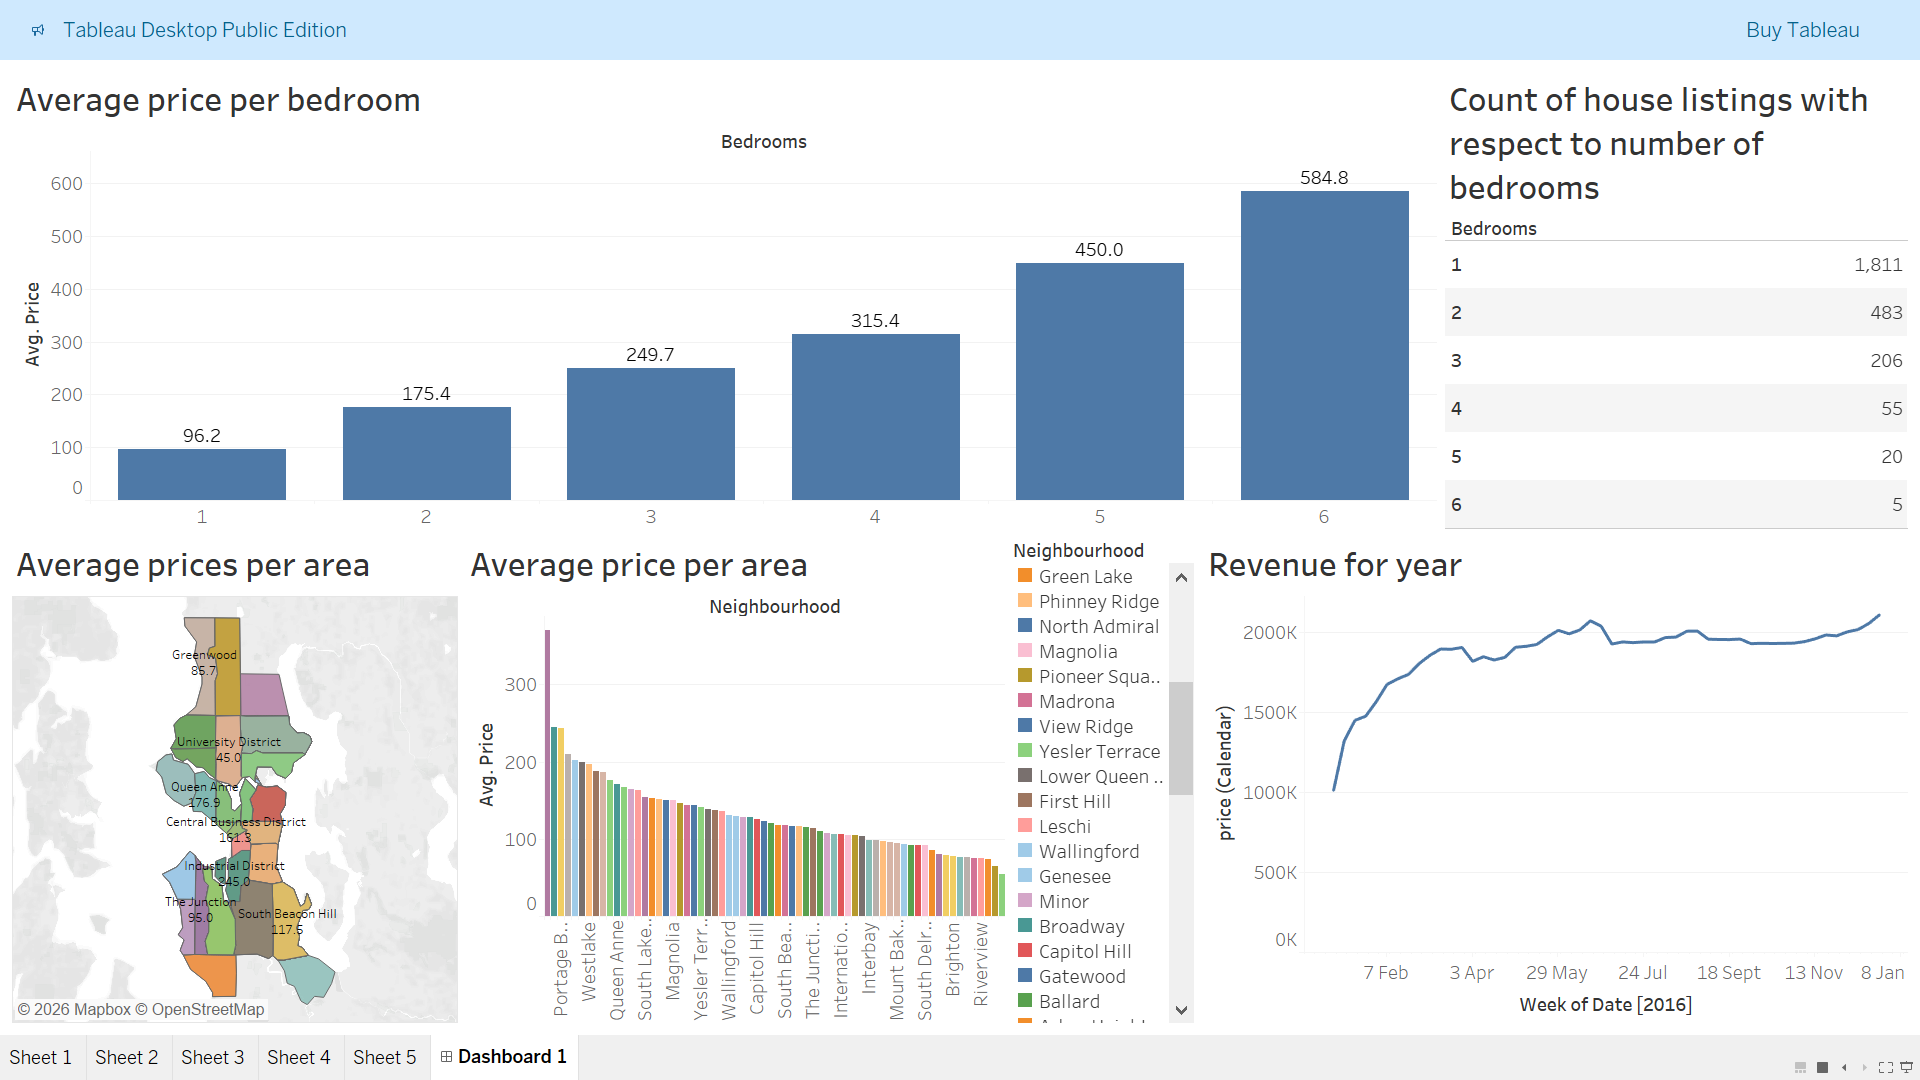

This screenshot's page, from the dashboard's own definition file:
{"tool":"tableau","page":{"name":"Dashboard 1","canvas":[1000,1000],"units":"permille","ordinal":0},"visuals":[{"type":"worksheet","title":"Sheet 4","mark":"Automatic","rows":["price"],"cols":["bedrooms"],"box":[4.2,10.6,746.1,474.9]},{"type":"worksheet","title":"Sheet 5","mark":"Automatic","rows":["bedrooms"],"box":[750.3,10.6,245.4,474.9]},{"type":"worksheet","title":"Sheet 2","mark":"Multipolygon","box":[4.2,485.5,236.6,504]},{"type":"worksheet","title":"Sheet 1","mark":"Automatic","rows":["price"],"cols":["neighbourhood"],"box":[240.8,485.5,284.7,504]},{"type":"legend","title":"Sheet 1","param":"[federated.1iimjr1109namn15etvd1126e6qy].[none:neighbourhood:nk]","box":[525.6,485.5,99.3,504]},{"type":"worksheet","title":"Sheet 3","mark":"Automatic","rows":["price (Calendar)"],"cols":["date"],"box":[624.8,485.5,370.9,504]}]}

Visuals, with their boxes on the dashboard's canvas, which has no fixed pixel size, in thousandths of its width and height (x1, y1, x2, y2). These are canvas units, not pixel positions in the 1920x1080 screenshot, which may show the page scaled, cropped or inside an application window:
"Sheet 4" worksheet: Rect(4, 11, 750, 486)
"Sheet 5" worksheet: Rect(750, 11, 996, 486)
"Sheet 2" worksheet (Multipolygon marks): Rect(4, 486, 241, 990)
"Sheet 1" worksheet: Rect(241, 486, 526, 990)
"Sheet 1" legend: Rect(526, 486, 625, 990)
"Sheet 3" worksheet: Rect(625, 486, 996, 990)
